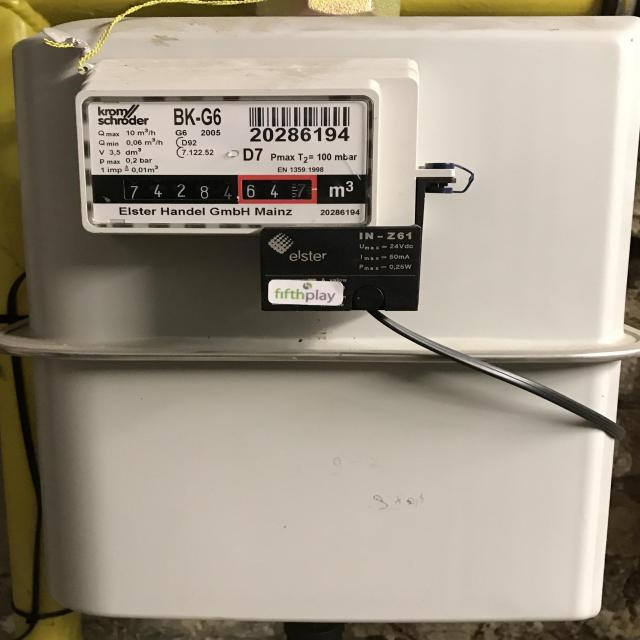gaz_meter: (78, 96, 370, 226)
indication: (120, 172, 319, 205)
